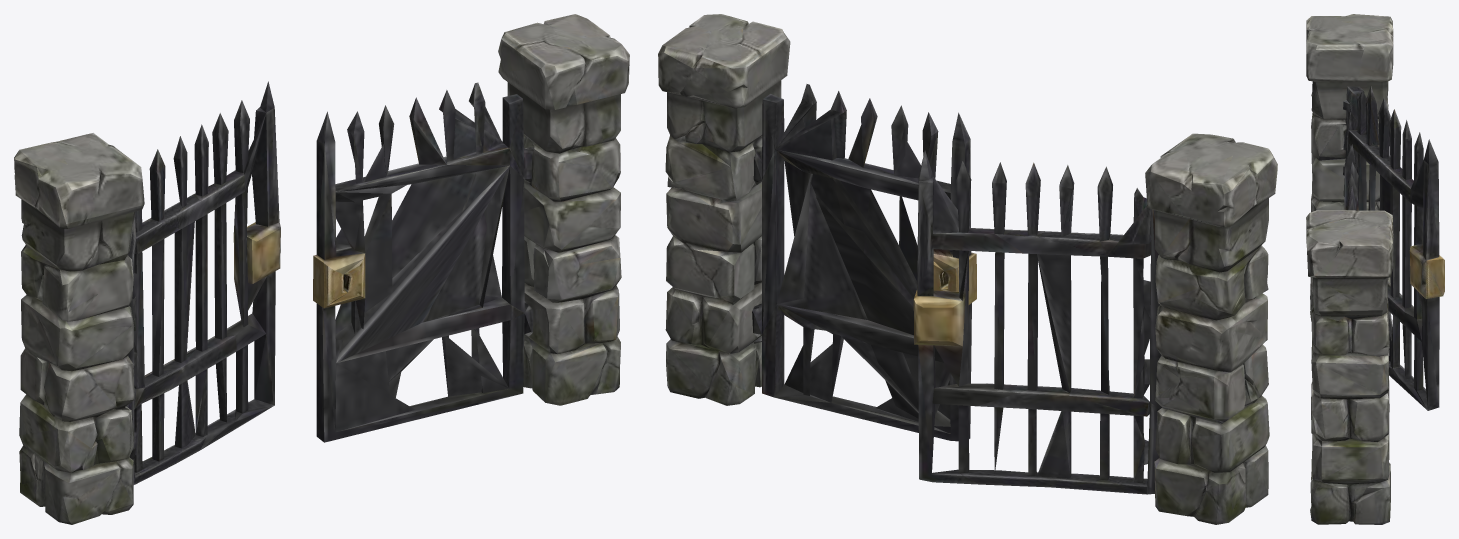
Rendered from double_gate_open_3d.glb.
3 views of the same model, side by side, from view 1: azimuth 30°, elevation 25°; view 2: azimuth 150°, elevation 25°; view 3: azimuth 270°, elevation 25° (orthographic). The views are drawn at different scales.
Parts seen in each view (by area): view 1: Mesh_0; view 2: Mesh_0; view 3: Mesh_0.
Boxes of the visible parts, <box> form: Mesh_0: <box>14,14,629,524</box>; Mesh_0: <box>658,14,1277,524</box>; Mesh_0: <box>1306,14,1444,524</box>.
Bounding box in the file's own units: 2.25 × 1.29 × 0.57.
1 material, 1 textured.
